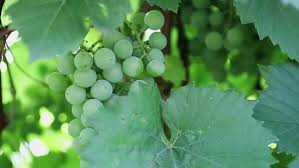grapes: (57, 9, 159, 114)
